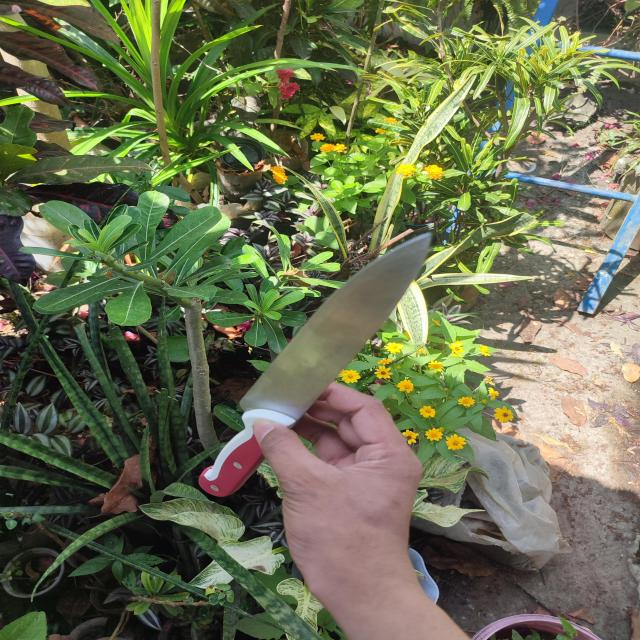knife: (196, 233, 432, 501)
